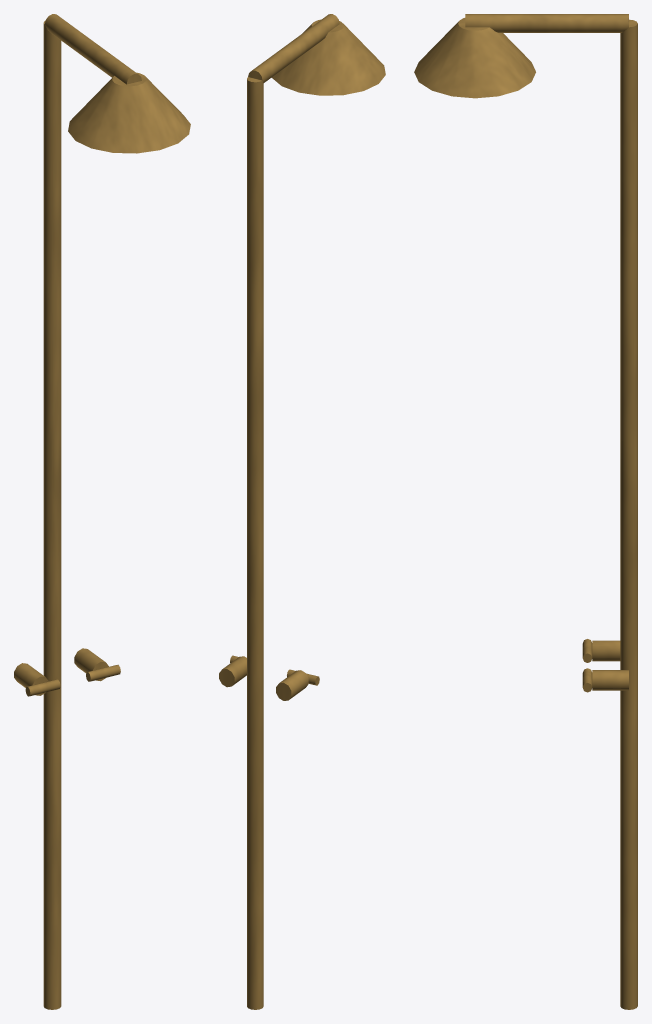
Rendered from Furn_ShowerHead.fbx.
3 renders of one model, left to right at view 1: azimuth 30°, elevation 25°; view 2: azimuth 150°, elevation 25°; view 3: azimuth 270°, elevation 25°, orthographic. The views are drawn at different scales.
Visible parts, largest first — view 1: Furn_ShowerHead_Mesh; view 2: Furn_ShowerHead_Mesh; view 3: Furn_ShowerHead_Mesh.
Boxes of the visible parts, x1=… form: Furn_ShowerHead_Mesh: x1=14, y1=14, x2=190, y2=1009; Furn_ShowerHead_Mesh: x1=219, y1=14, x2=385, y2=1009; Furn_ShowerHead_Mesh: x1=414, y1=14, x2=637, y2=1009.
Bounding box in the file's own units: 0.25 × 2.2 × 0.45.
Materials: 2 (2 with a texture image).
